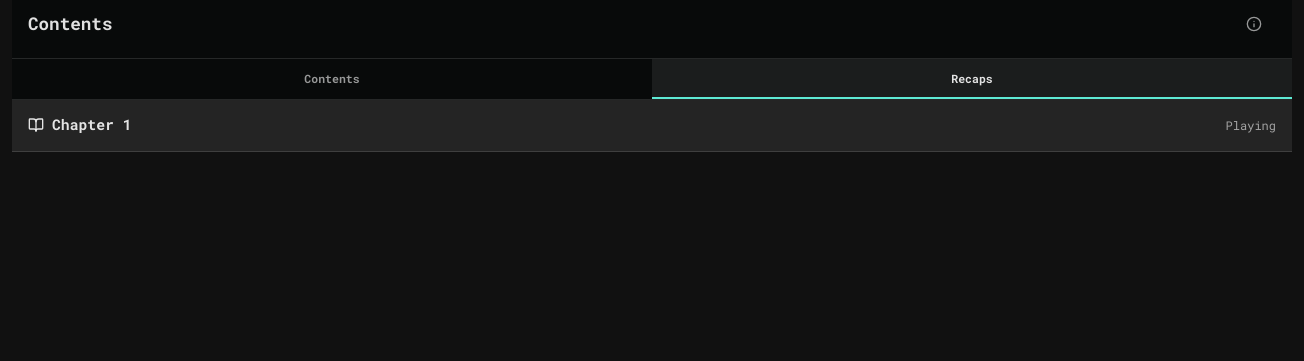
Test: Sidebar V2 › allows the outline to remain selected while a recap is active
This screenshot has width=1304, height=361.
Click the tab "Contents". click: click(332, 79)
box: [12, 59, 652, 99]
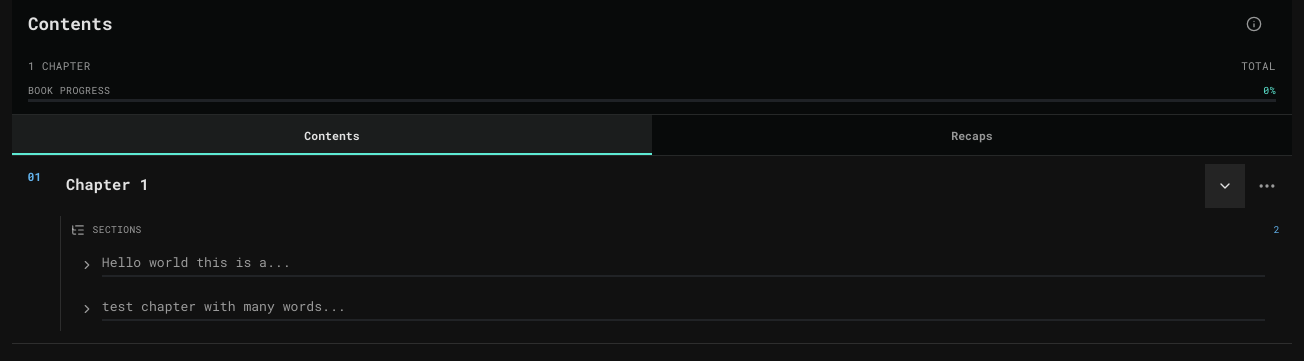
Expected: the button with test id "sidebar-chapter-button" is shown, [14, 156, 1205, 216]
